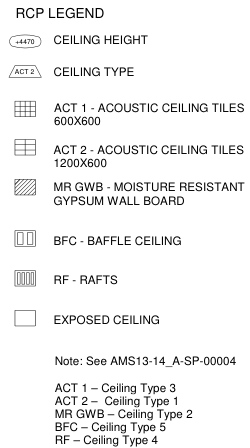hatch: (4, 62, 45, 80), (7, 31, 45, 50), (11, 227, 39, 250), (11, 98, 41, 119), (11, 177, 41, 198), (11, 307, 38, 330), (12, 136, 39, 158), (12, 268, 38, 289)
label: (49, 99, 247, 128), (51, 179, 247, 208), (52, 142, 246, 170), (47, 232, 189, 250), (48, 310, 163, 327), (50, 31, 150, 47), (52, 62, 139, 79), (49, 270, 123, 289)
